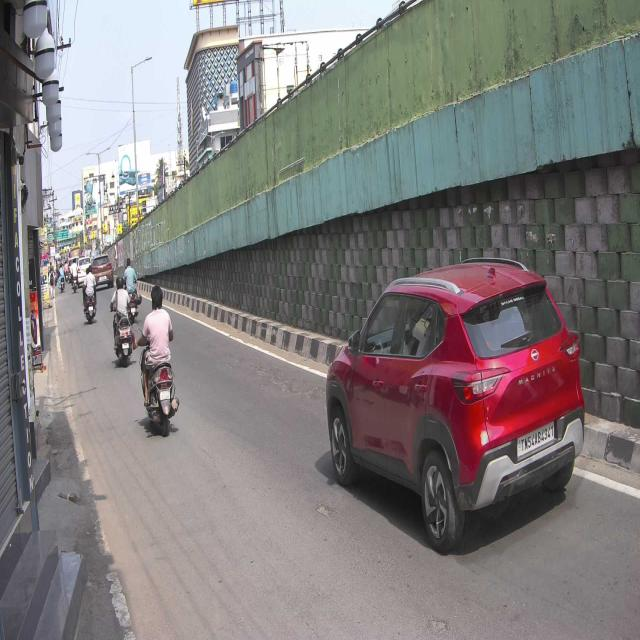single_rider: (136, 284, 180, 440)
